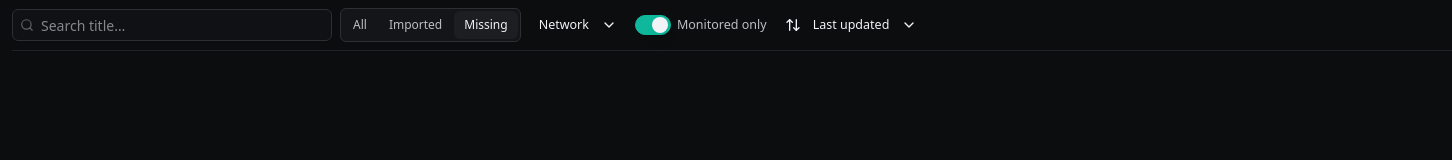
Test: <SeriesFiltersBar /> › shows the empty-networks placeholder when none are available
The image size is (1452, 160).
Click the button with test id "series-filters-networks". click: (578, 25)
box: [529,9,627,41]
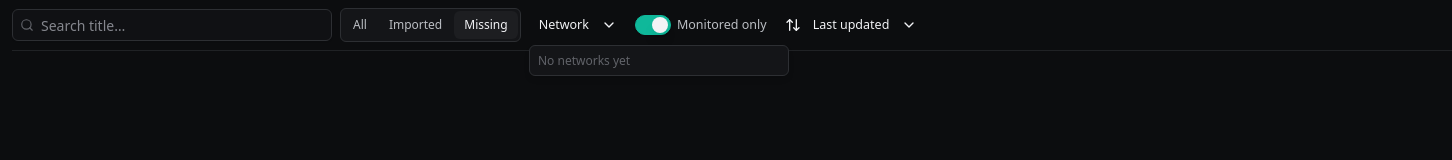
expect the menu with test id "series-filters-networks-content" is shown: met, box [529,45,789,76]
